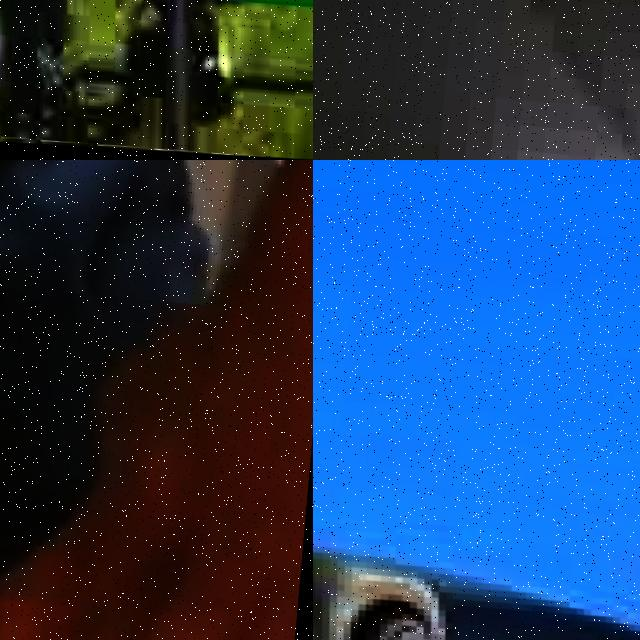drone: (0, 259, 313, 640), (313, 464, 640, 640), (0, 0, 313, 160)
